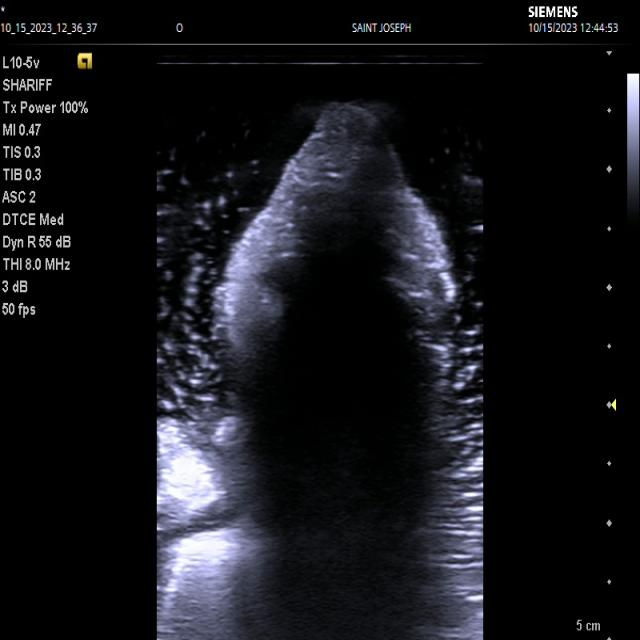tissue: (153, 106, 482, 640)
